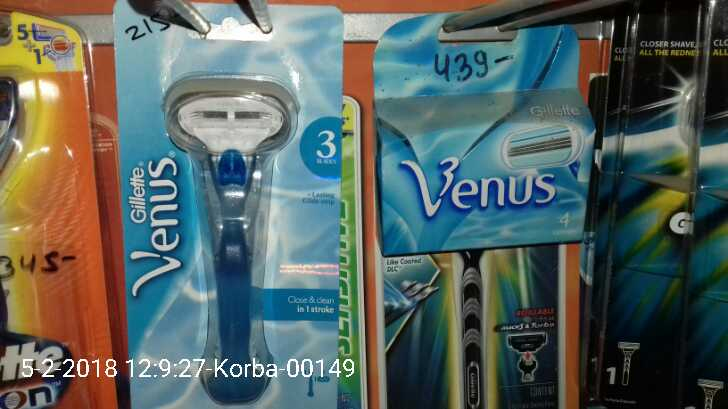venus: (377, 23, 585, 242), (156, 68, 292, 353)
